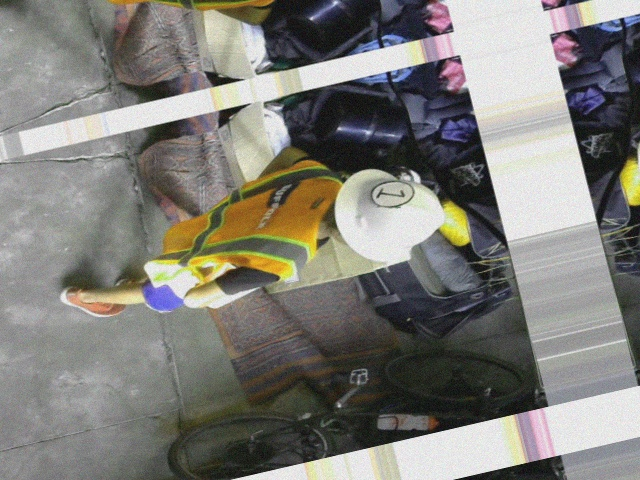one: (369, 175, 416, 210)
